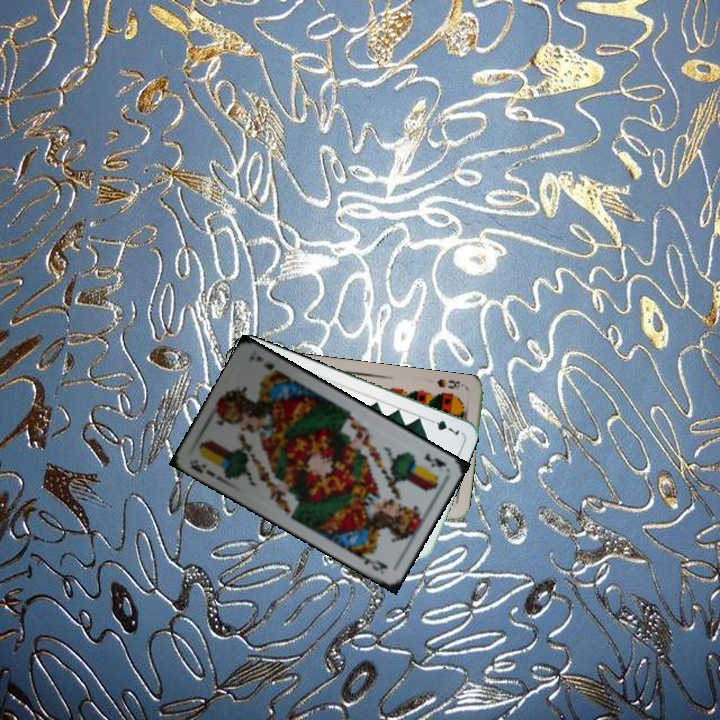EK: (186, 455, 217, 479), (420, 448, 448, 470)
G7: (424, 414, 462, 439)
S8: (433, 375, 468, 393)
